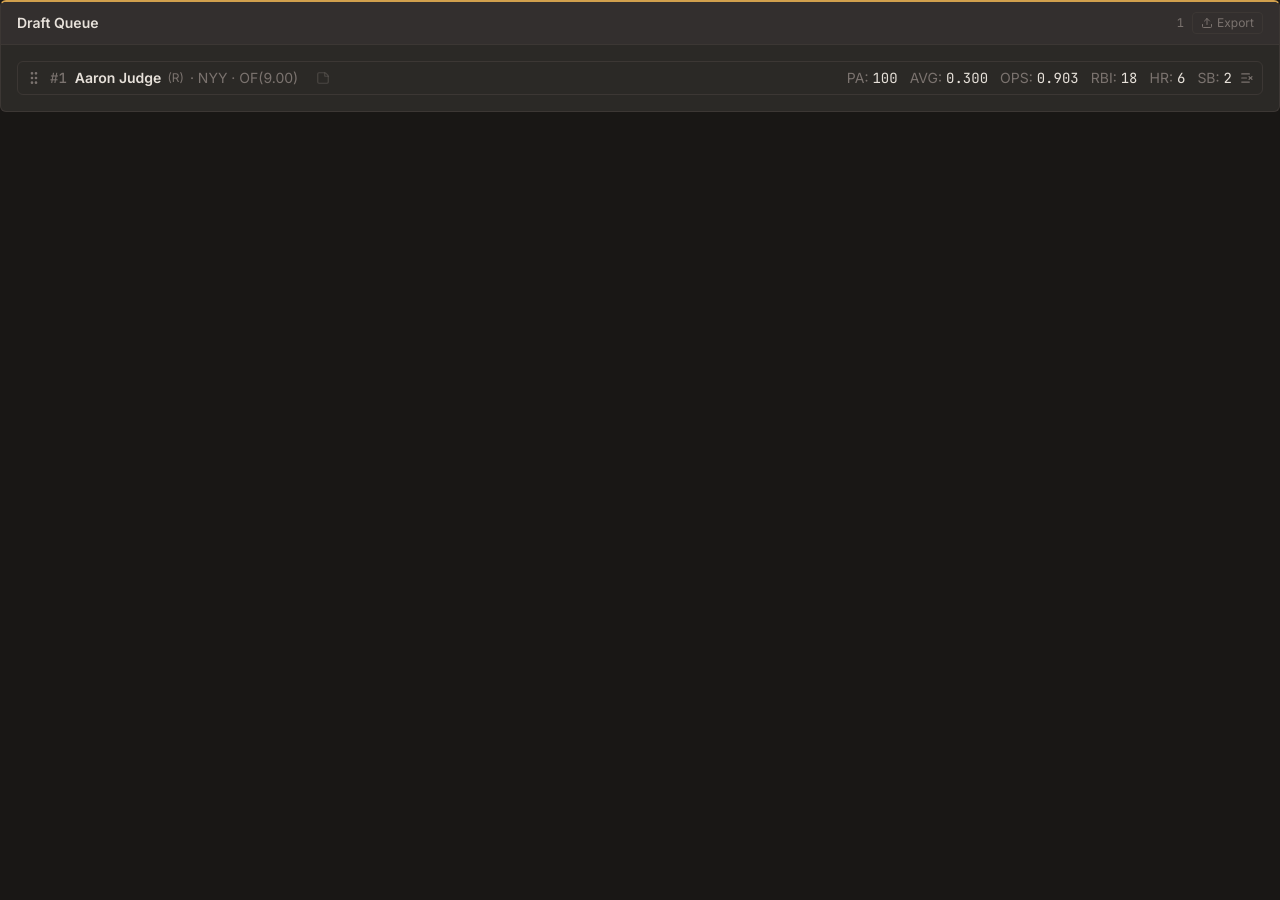
Test: DraftQueuePanel › should open export modal when export button clicked
Click the button "Export". click: (1228, 23)
box: [1192,12,1263,34]
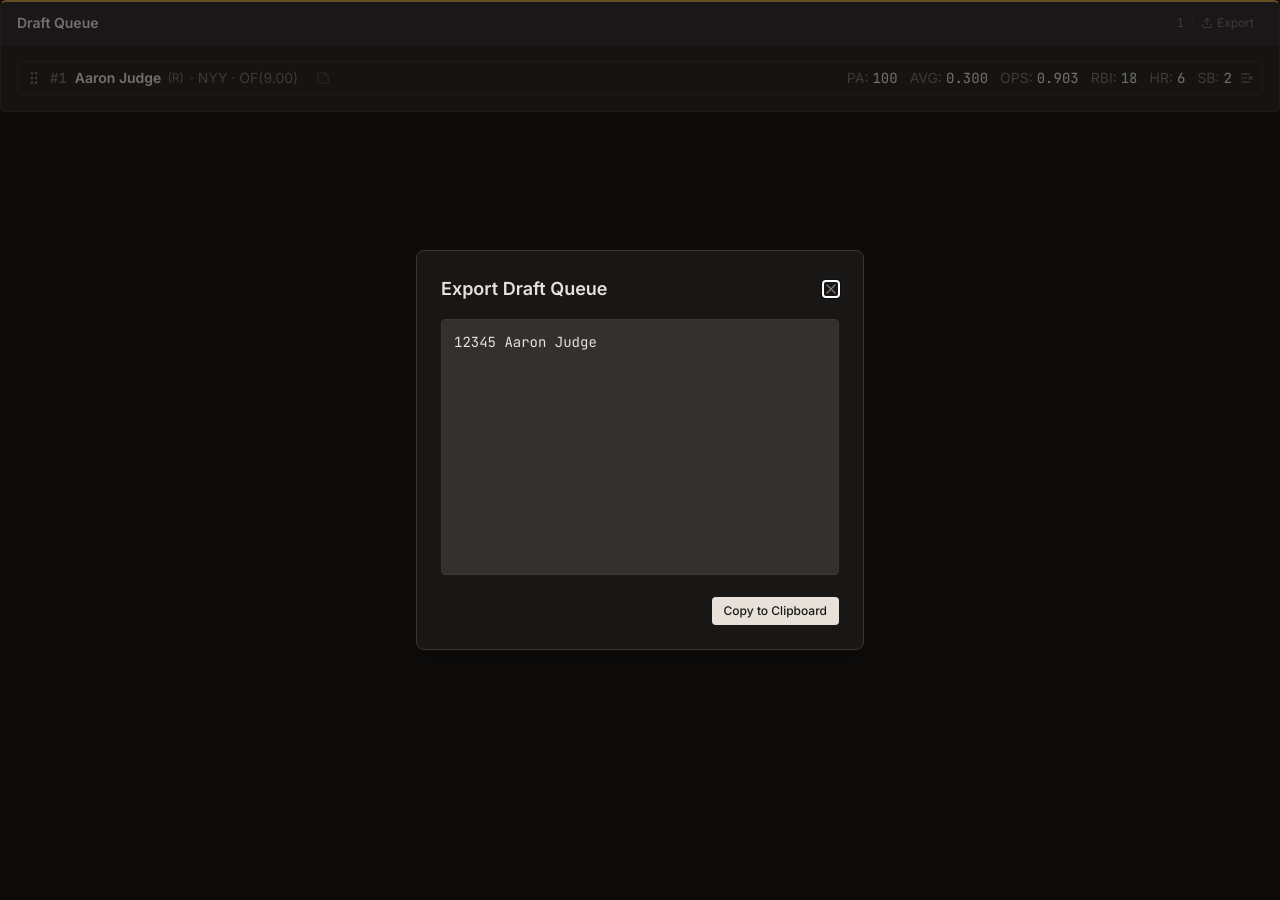
Result: the heading "Export Draft Queue" is shown at [441,275,608,303]
